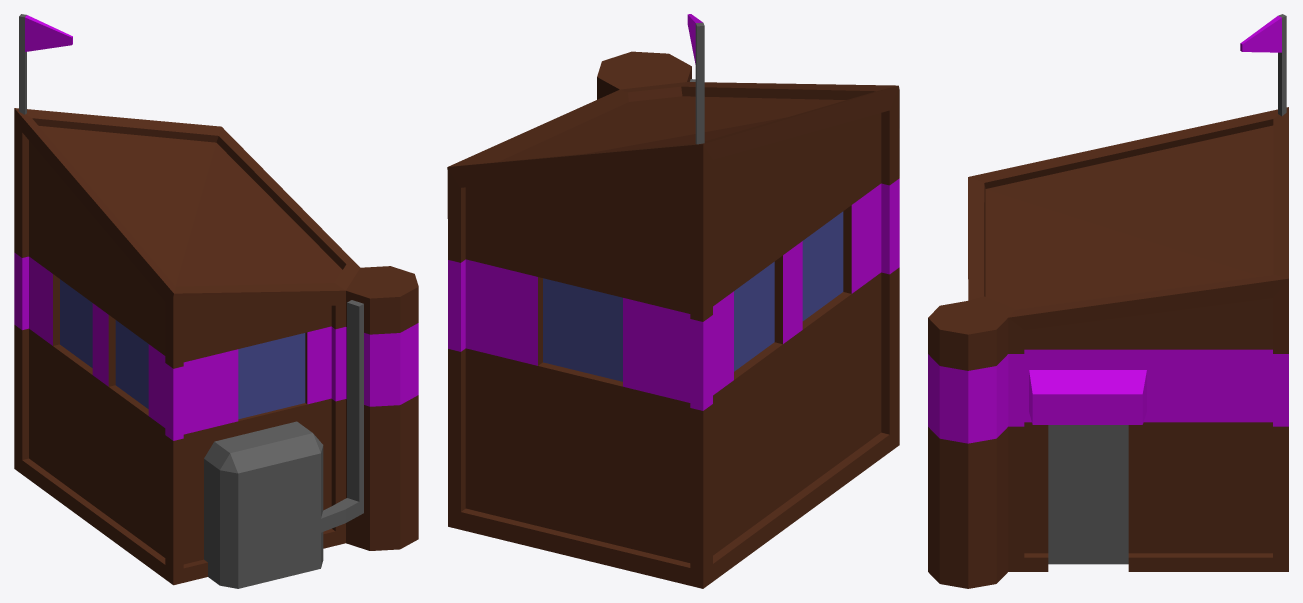
Rendered from Wooden House.fbx.
3 renders of one model, left to right at view 1: azimuth 30°, elevation 25°; view 2: azimuth 150°, elevation 25°; view 3: azimuth 270°, elevation 25°, orthographic. The views are drawn at different scales.
Parts seen in each view (by area): view 1: House_Mesh, Flag; view 2: House_Mesh, Flag; view 3: House_Mesh, Flag.
Boxes of the visible parts, left/top/right/bottom form: House_Mesh: left=14, top=108, right=418, bottom=588; Flag: left=19, top=14, right=72, bottom=114; House_Mesh: left=447, top=51, right=899, bottom=588; Flag: left=687, top=14, right=704, bottom=144; House_Mesh: left=928, top=107, right=1288, bottom=588; Flag: left=1240, top=14, right=1286, bottom=116.
Size of the model in its own units: 101 by 181 by 130.
